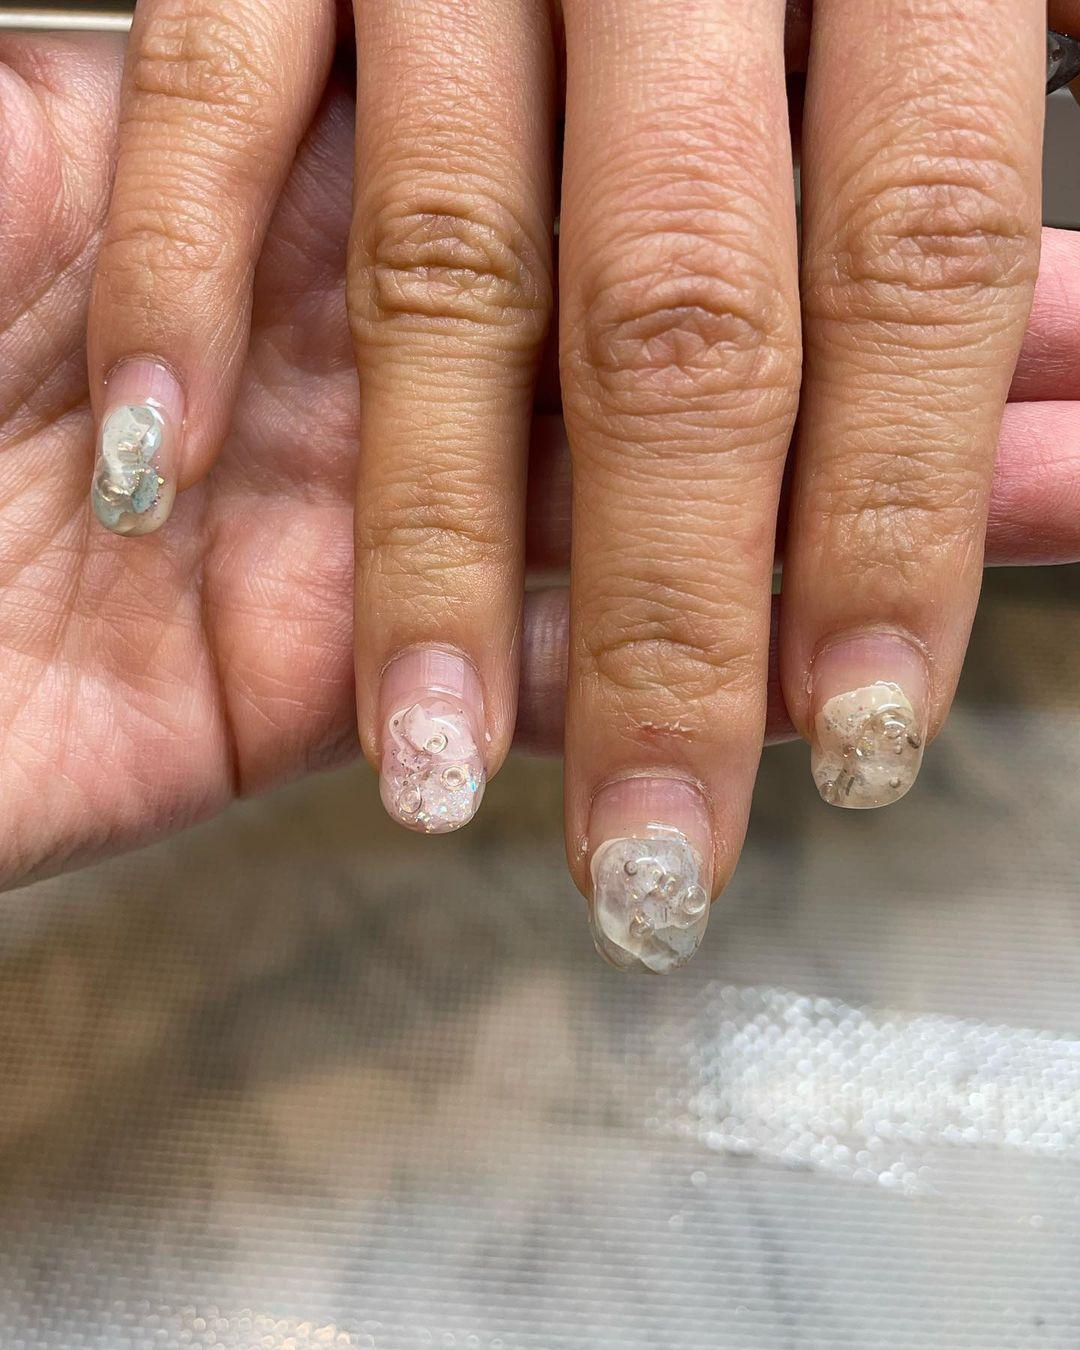nail: (583, 773, 716, 975), (805, 627, 933, 810), (374, 642, 490, 834), (88, 352, 186, 536)
